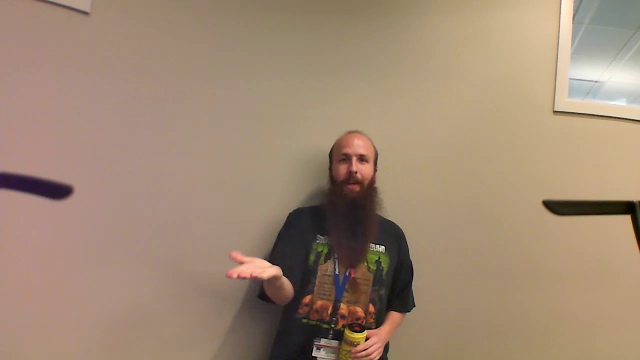land: (219, 245, 289, 289)
